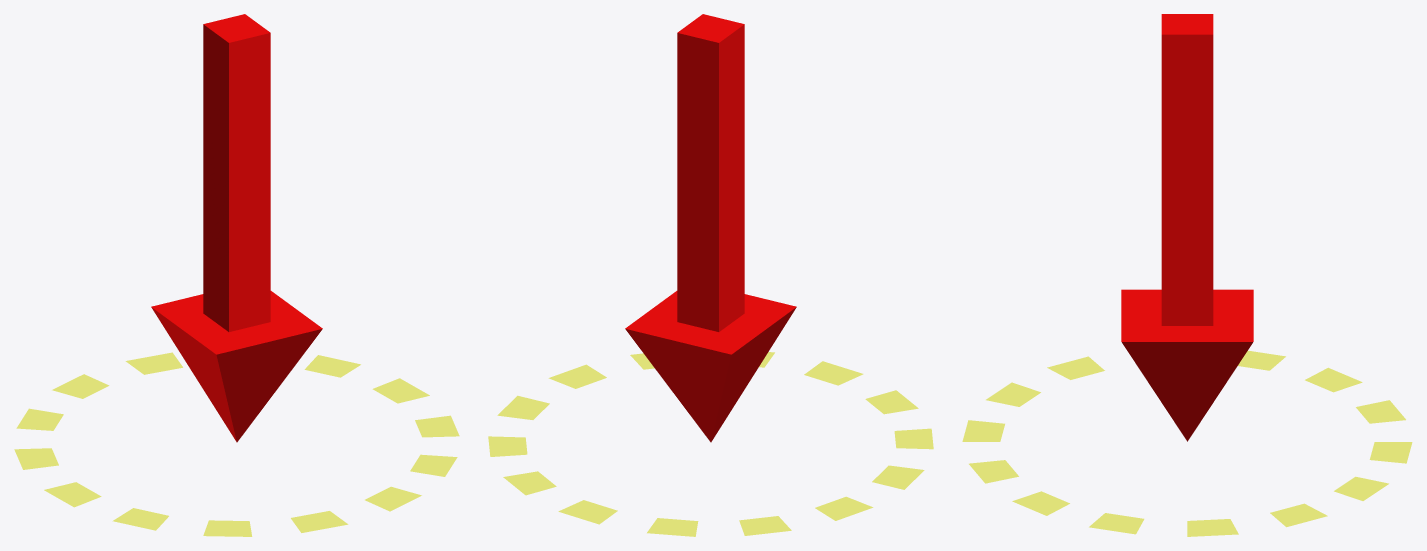
File: Empty.gltf
The picture shows the model from 3 angles, left to right: view 1: azimuth 30°, elevation 25°; view 2: azimuth 150°, elevation 25°; view 3: azimuth 270°, elevation 25°; orthographic projection.
Parts seen in each view (by area): view 1: Pivot_point; view 2: Pivot_point; view 3: Pivot_point.
Boxes of the visible parts, x1,y1,x2,y2 form: Pivot_point: [14, 14, 459, 536]; Pivot_point: [488, 14, 933, 536]; Pivot_point: [962, 14, 1412, 536].
Bounding box in the file's own units: 0.1048 × 0.1073 × 0.1048.
